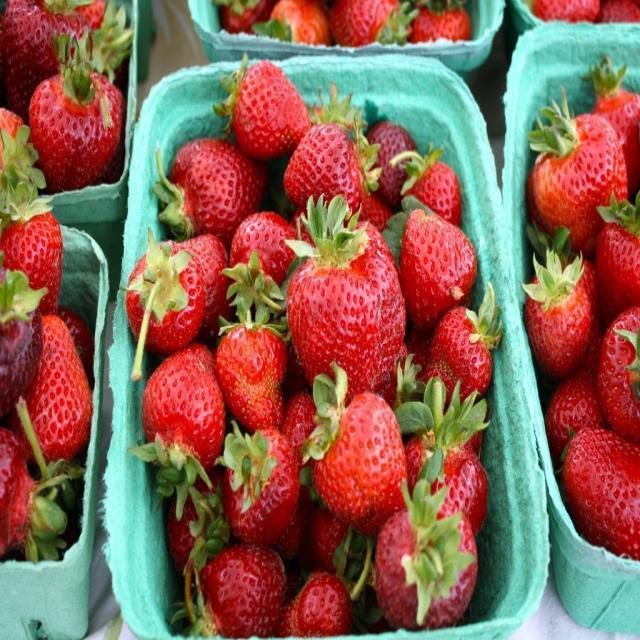Strawberry: (286, 217, 409, 397), (526, 85, 629, 259), (307, 393, 414, 520), (125, 231, 228, 352), (370, 505, 476, 619), (18, 317, 94, 465), (140, 341, 229, 467), (558, 425, 640, 555), (28, 66, 119, 182), (0, 422, 66, 568), (280, 116, 374, 217), (215, 430, 299, 541), (166, 134, 264, 229), (400, 205, 478, 323), (218, 319, 294, 434), (195, 544, 288, 636), (226, 59, 315, 153), (0, 0, 86, 95), (519, 274, 592, 379), (420, 309, 500, 404), (0, 206, 60, 316), (225, 211, 300, 296), (596, 300, 640, 437), (286, 570, 351, 637), (407, 160, 463, 222)
